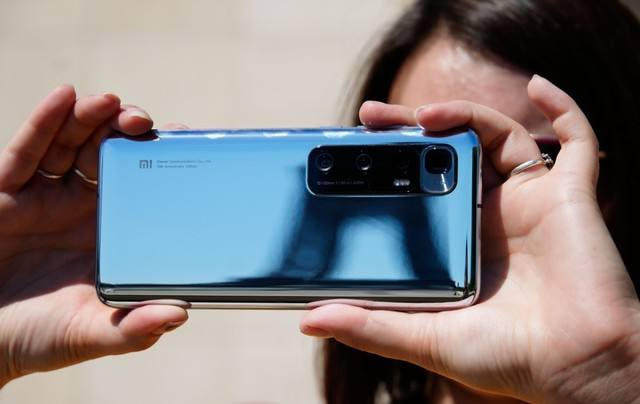taking photos: (5, 71, 636, 394)
